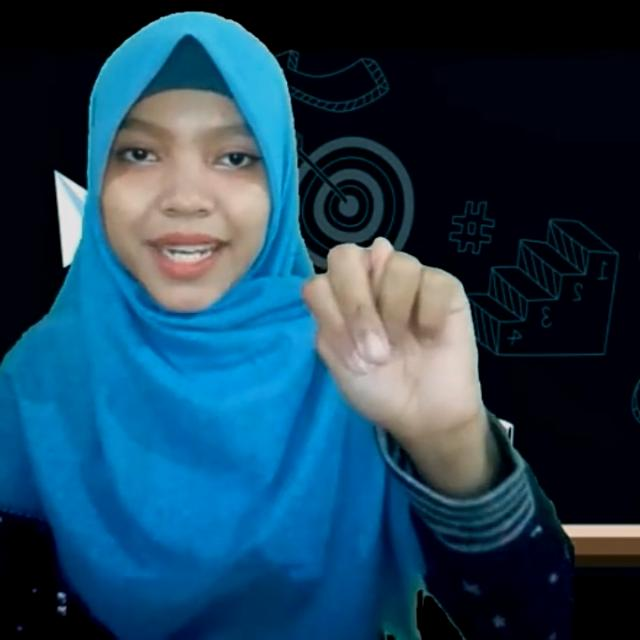N: (300, 236, 486, 424)
